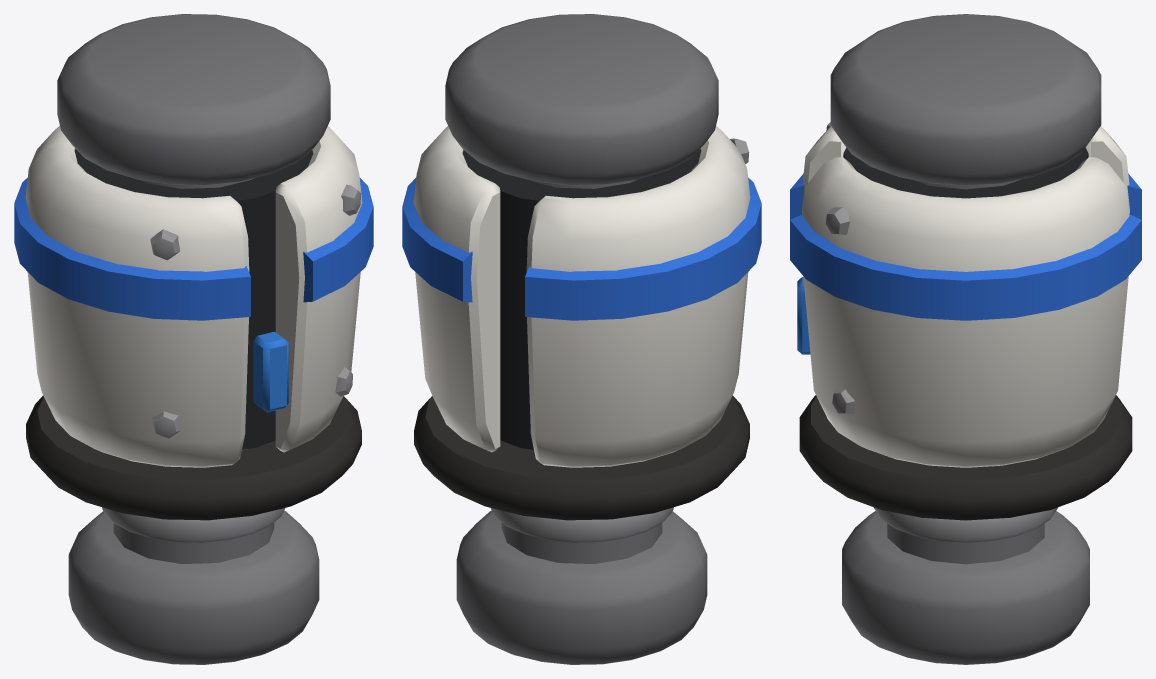
The model's file is Kit_Limb_ProPanel_S.glb.
3 views of the same model, side by side, from view 1: azimuth 30°, elevation 25°; view 2: azimuth 150°, elevation 25°; view 3: azimuth 270°, elevation 25° (orthographic).
Visible parts, largest first — view 1: Kit_Limb_ProPanel_S; view 2: Kit_Limb_ProPanel_S; view 3: Kit_Limb_ProPanel_S.
Boxes of the visible parts, box(x1,y1,x2,y2) form: Kit_Limb_ProPanel_S: box(14, 14, 373, 664); Kit_Limb_ProPanel_S: box(402, 14, 761, 664); Kit_Limb_ProPanel_S: box(790, 14, 1141, 664).
Bounding box in the file's own units: 0.1462 × 0.2512 × 0.1433.
